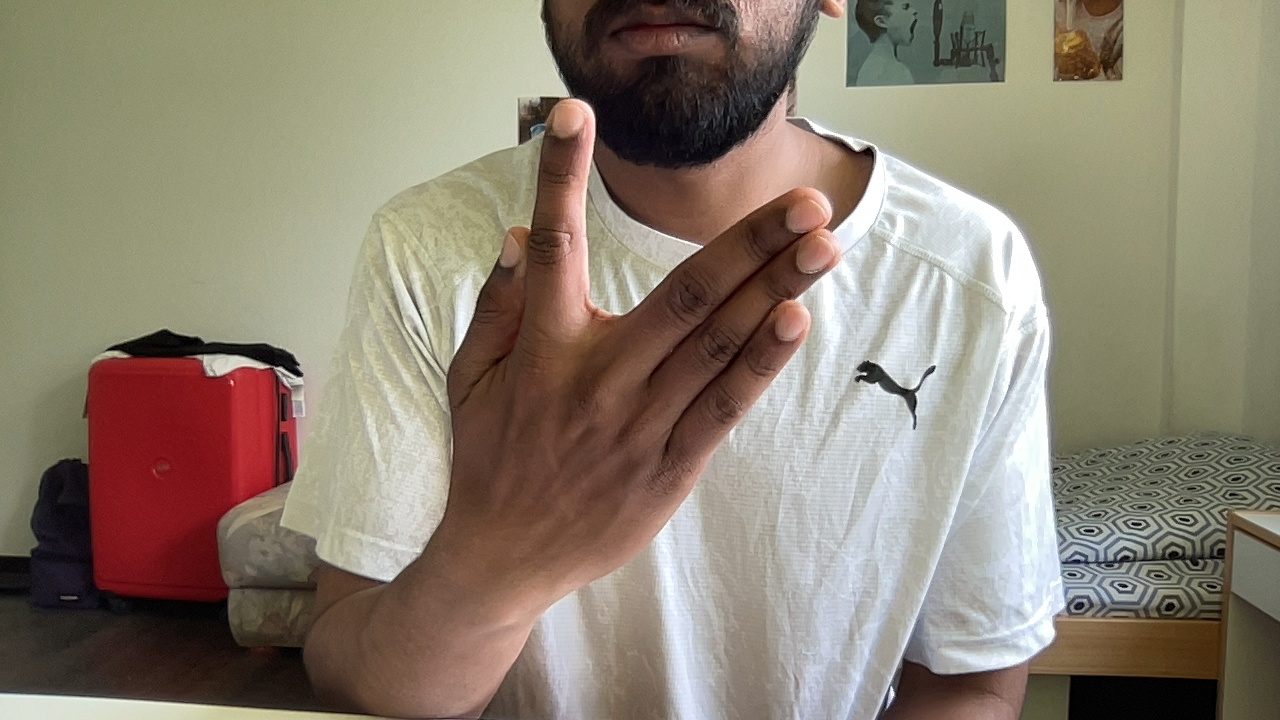LiveLong: (437, 97, 844, 607)
